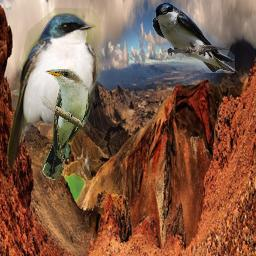Cuckoo: (42, 69, 90, 180)
Swallow: (7, 7, 101, 171), (152, 3, 235, 73)
